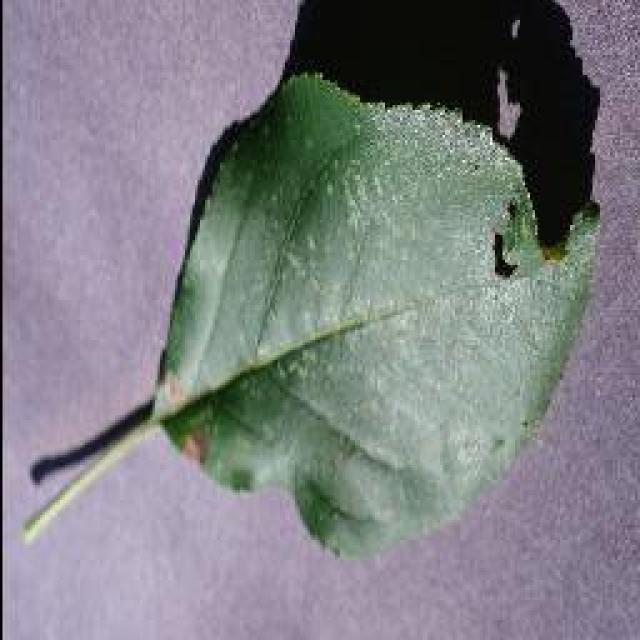black_rot: (174, 424, 220, 467)
